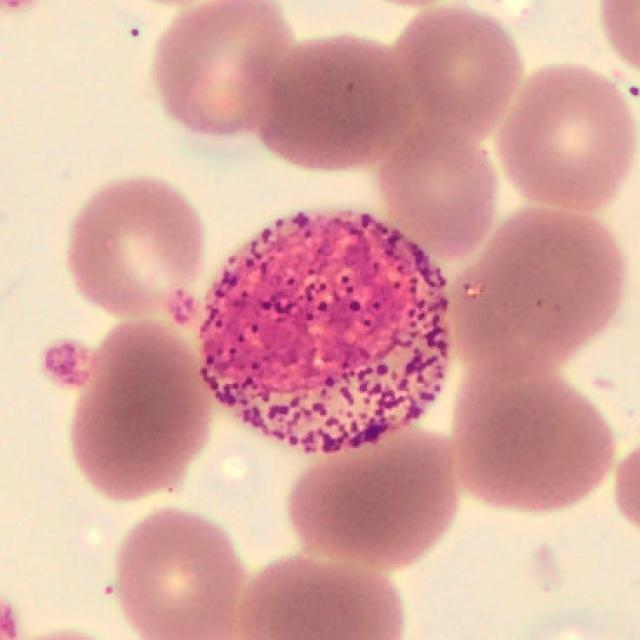Promielocito: (176, 213, 450, 457)
